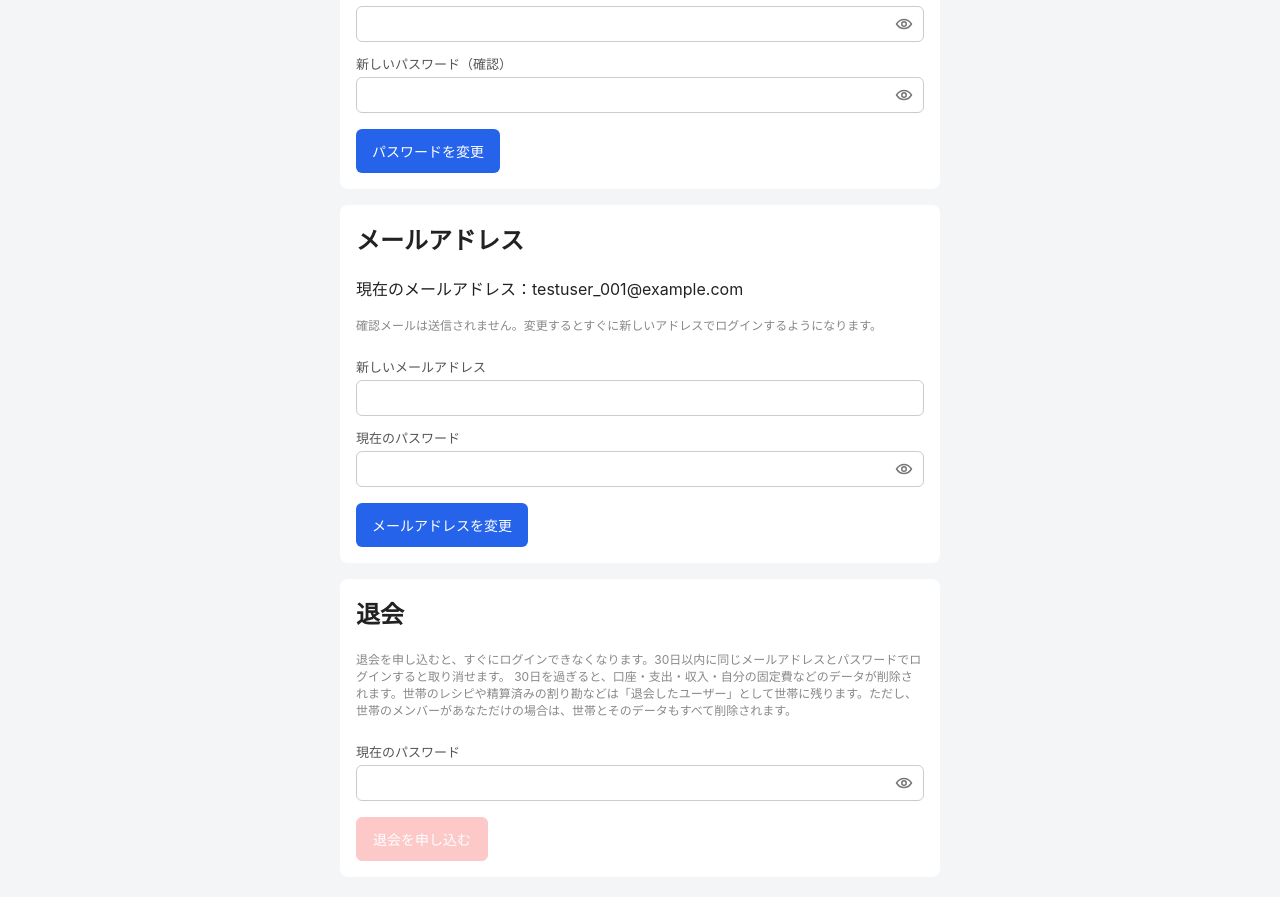
アカウント設定の退会 (#298) › パスワードが違うときはエラーを表示してログインしたまま
(page scrolled)
Type "WrongPass1" into the 2nd password field labelled "現在のパスワード" at x=640, y=782, box [356,764,924,800]
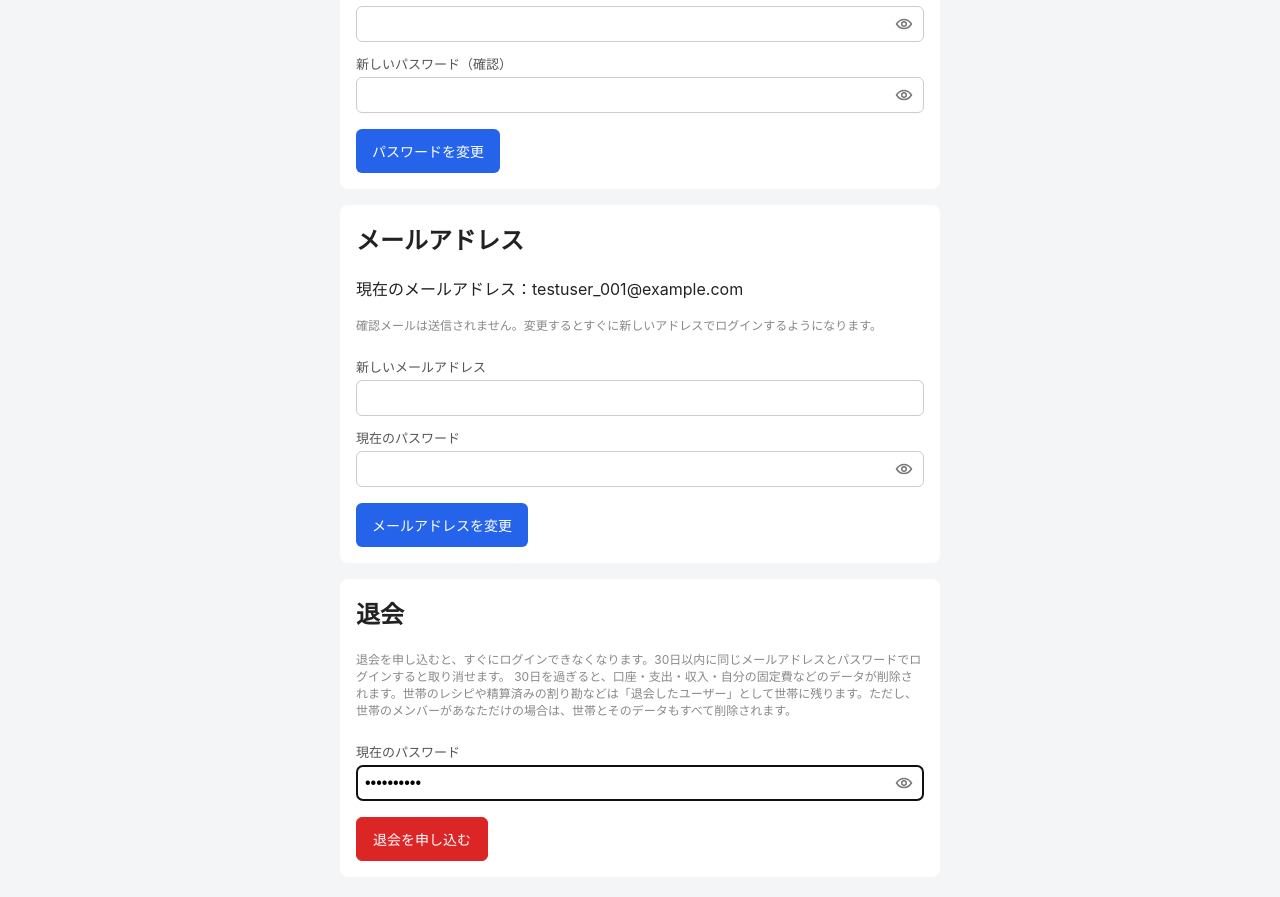
Expected: the button "退会を申し込む" is enabled
Click the button "退会を申し込む" at x=422, y=838, box [356,816,488,860]
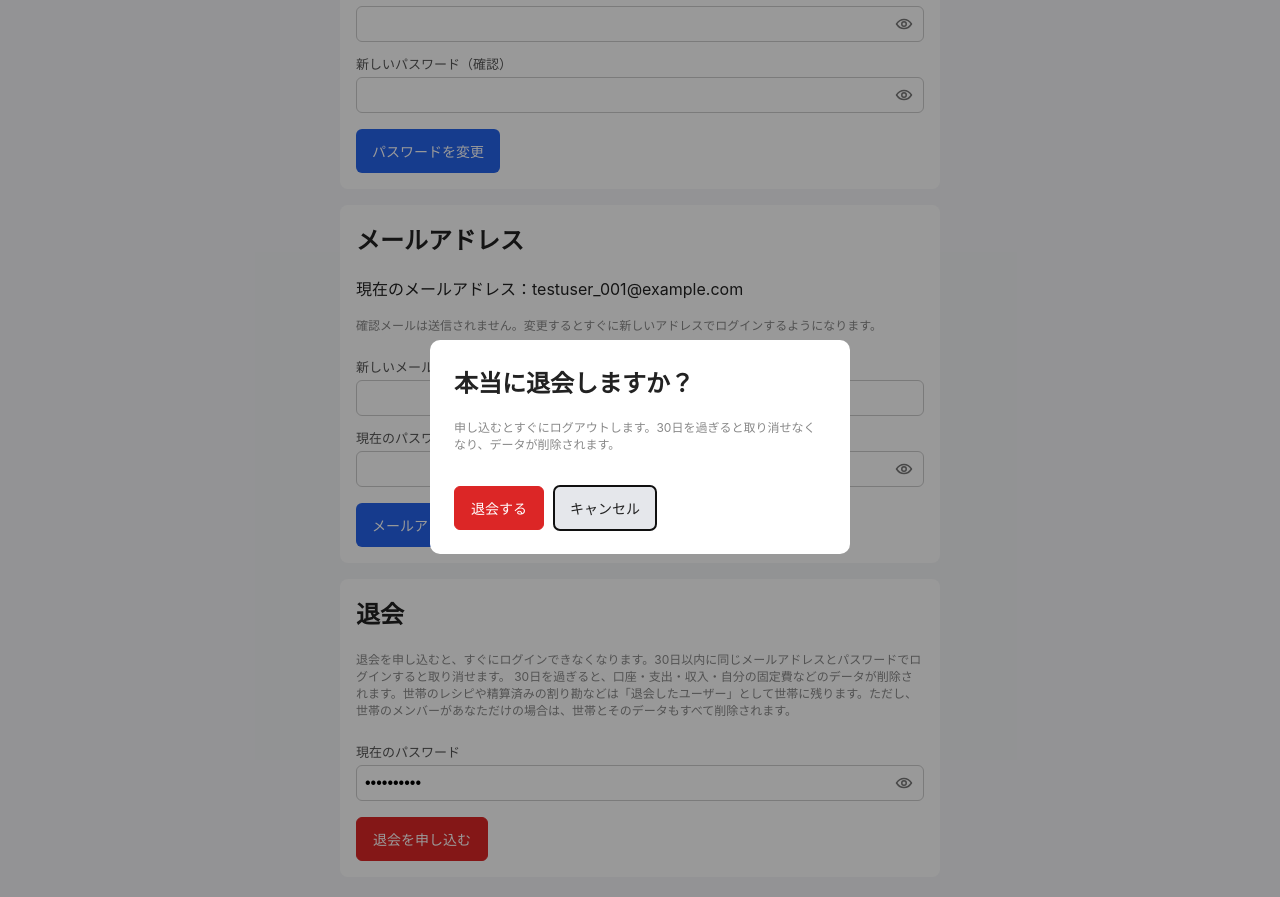
Click the button "退会する" at x=499, y=508, box [454,486,544,530]
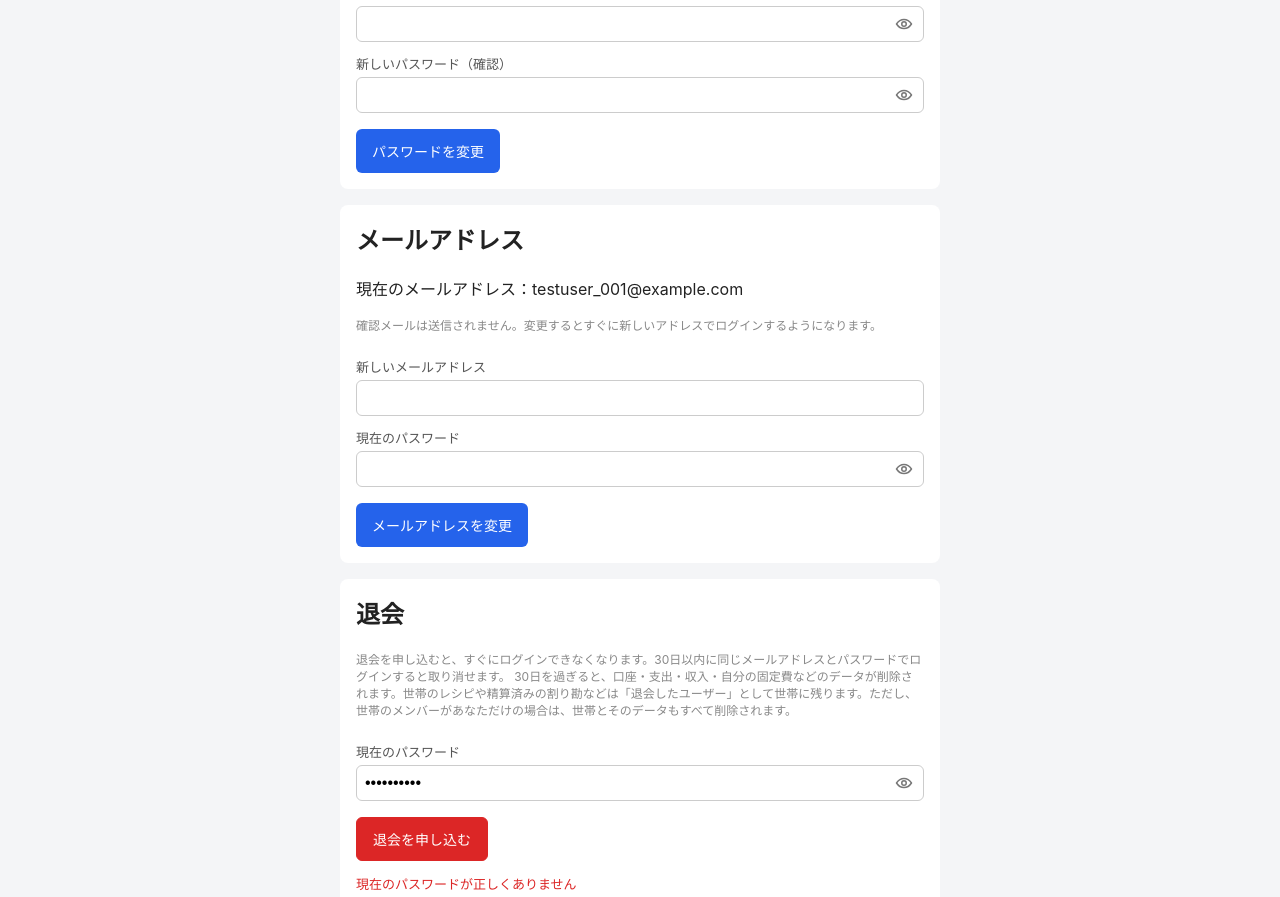
Expected: the message reads "現在のパスワードが正しくありません", [356,876,577,892]
